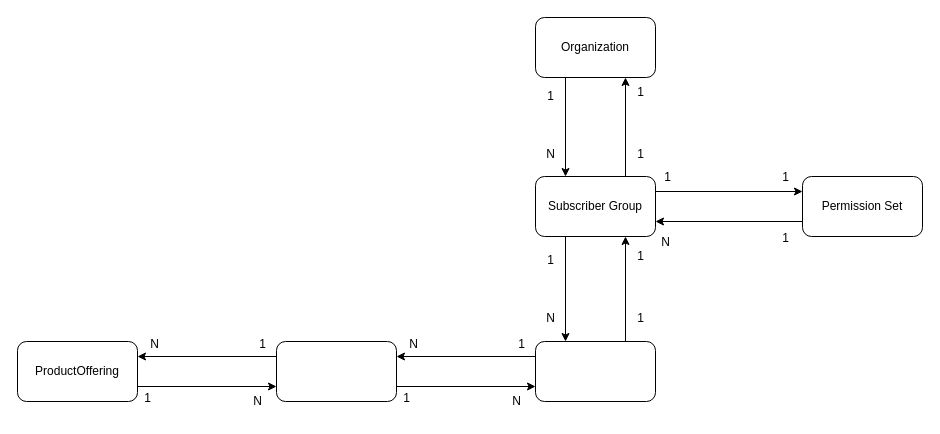
Some shapes in this 940 by 434 pixel diagram are drawn without their labels. The centre of each missing label's shape, as x and y in pixels:
Offer: point (336, 371)
Subscriber: point (595, 371)
